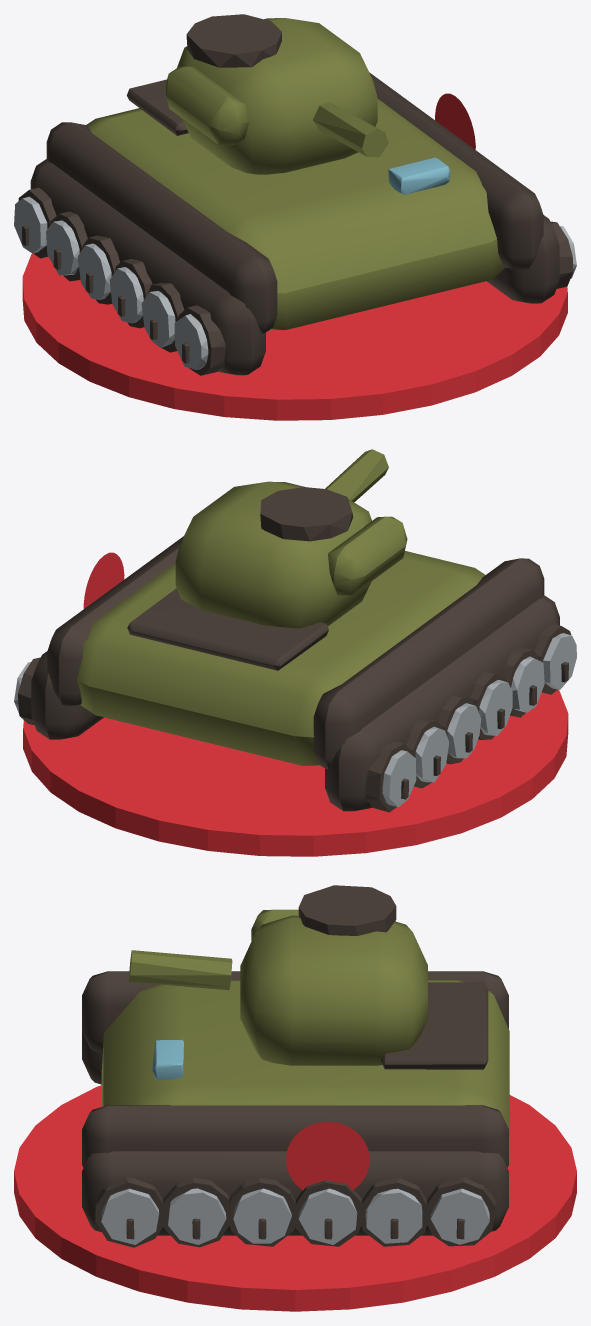
Rendered from japan_infantry_lod0.glb.
3 renders of one model, top to bottom at view 1: azimuth 30°, elevation 25°; view 2: azimuth 150°, elevation 25°; view 3: azimuth 270°, elevation 25°, orthographic. The views are drawn at different scales.
Visible parts, largest first — view 1: body_hull, base_pedestal; view 2: body_hull, base_pedestal; view 3: body_hull, base_pedestal.
Boxes of the visible parts, left/top/right/bottom form: body_hull: left=14, top=14, right=576, bottom=375; base_pedestal: left=22, top=253, right=567, bottom=420; body_hull: left=14, top=449, right=576, bottom=812; base_pedestal: left=23, top=690, right=568, bottom=856; body_hull: left=82, top=885, right=509, bottom=1247; base_pedestal: left=14, top=1085, right=576, bottom=1311.
Size of the model in its own units: 0.78 by 0.412 by 0.78.
